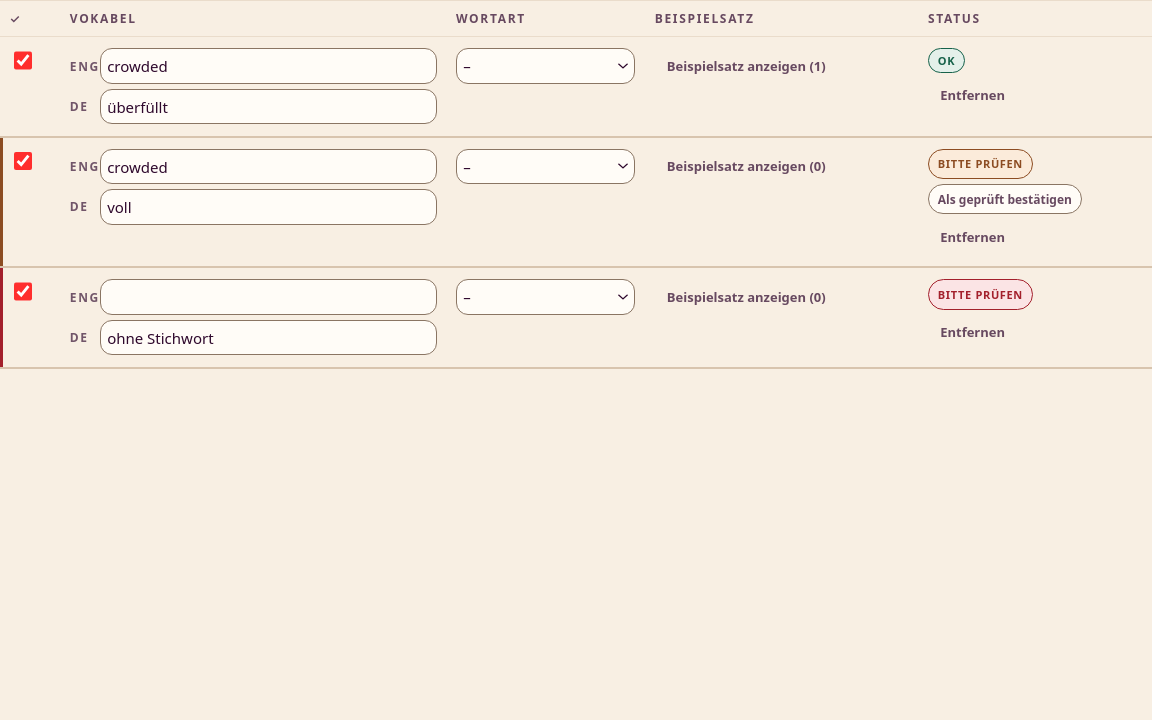
Test: DraftTable – Detailbereich › zeigt Alternativantworten, Notiz und Beispielsätze
Click the button with aria-label "Beispielsatz für crowded anzeigen" at (746, 66), box [655,48,838,84]
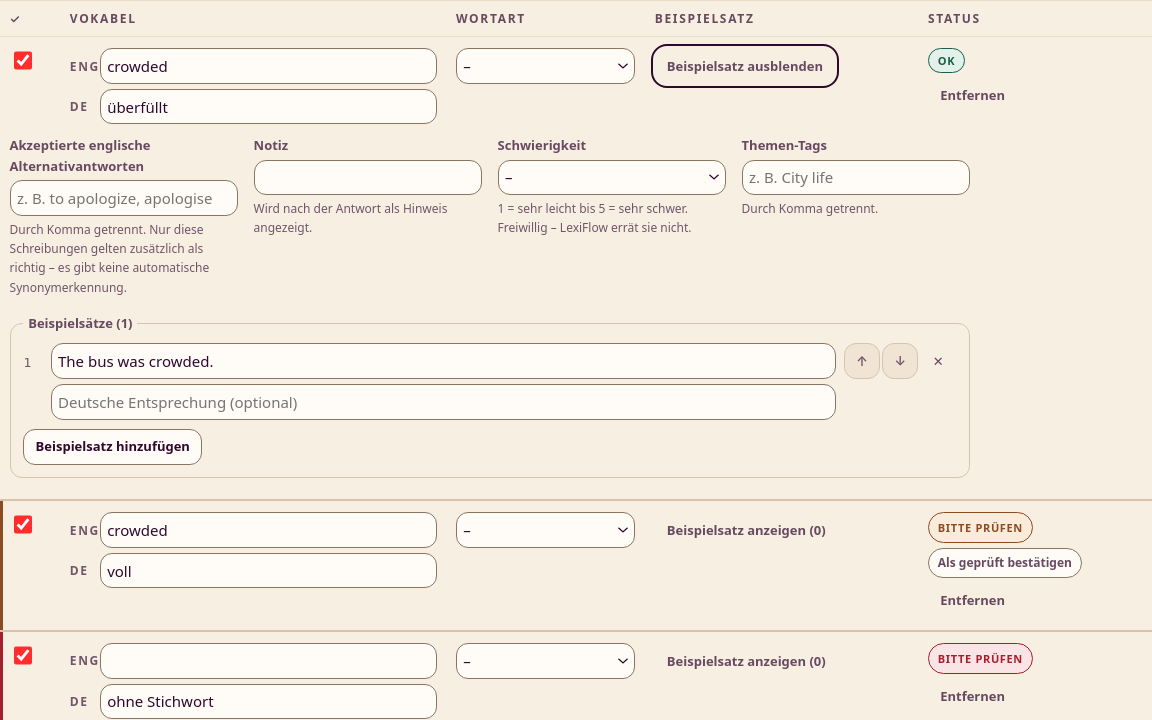
Now the field labelled "Akzeptierte englische Alternativantworten" is shown, box [10,180,238,216]
Now the field named "Beispielsatz 1 Englisch, crowded" holds "The bus was crowded.", box [51,343,836,379]
Now the field named "Beispielsatz 1 Deutsch, crowded" is shown, box [51,384,836,420]
